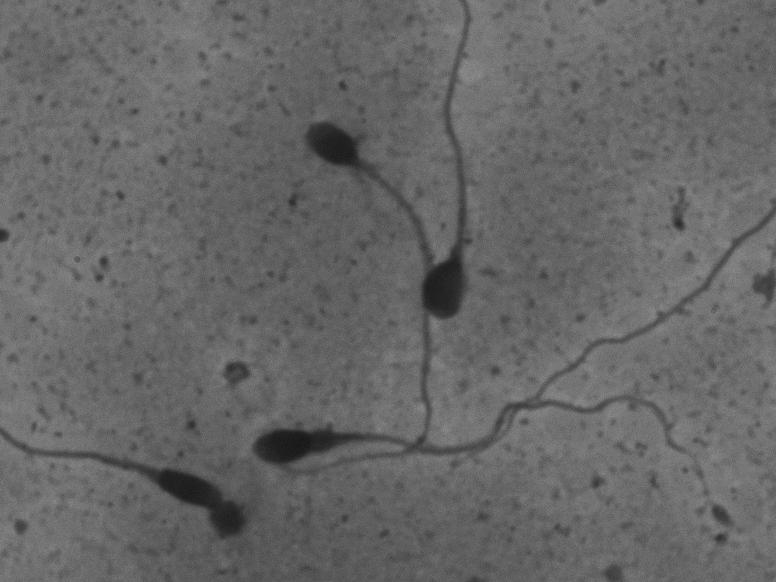Abnormal: (246, 381, 721, 548), (415, 8, 504, 326), (12, 402, 219, 534)
Normal: (280, 109, 438, 480)
